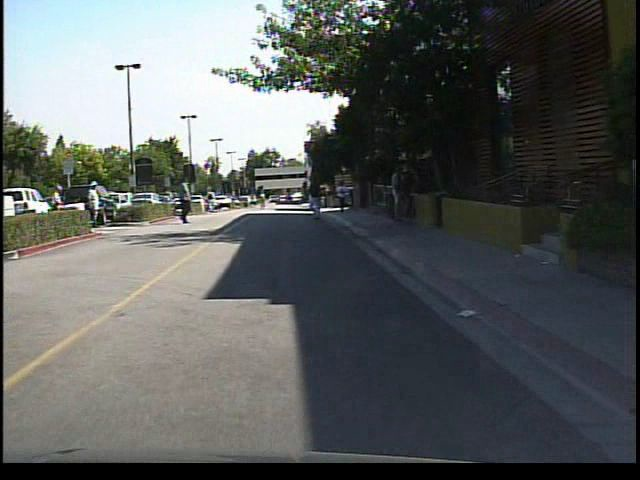person: (386, 156, 412, 230), (304, 167, 331, 223), (174, 172, 200, 230), (404, 166, 425, 222), (49, 180, 70, 234), (91, 176, 108, 231), (335, 175, 351, 217), (204, 187, 220, 216), (256, 188, 271, 212)
